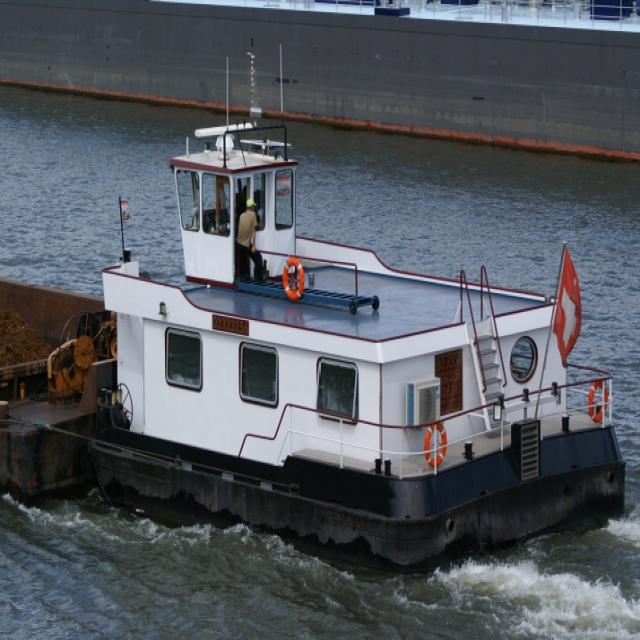tugboat: (72, 36, 634, 591)
